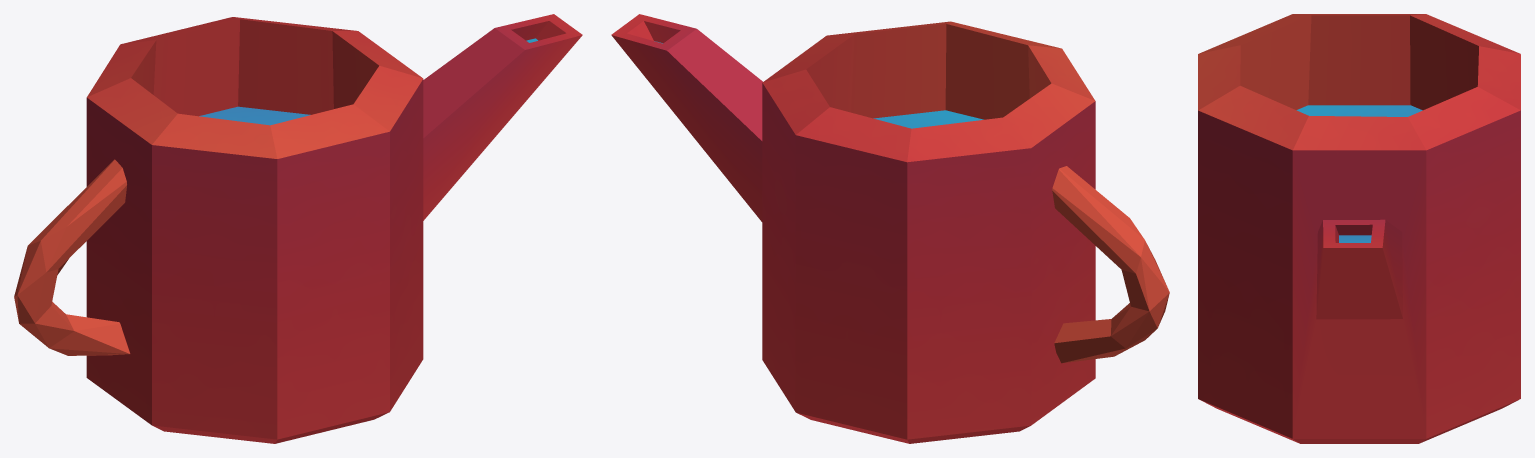
Rendered from Tool_WateringCan.fbx.
3 renders of one model, left to right at view 1: azimuth 30°, elevation 25°; view 2: azimuth 150°, elevation 25°; view 3: azimuth 270°, elevation 25°, orthographic. The views are drawn at different scales.
Visible parts, largest first — view 1: WateringCan; view 2: WateringCan; view 3: WateringCan.
Part boxes in pixels (x1,y1,x2,y2): WateringCan: (14, 14, 582, 443); WateringCan: (611, 14, 1169, 443); WateringCan: (1198, 14, 1520, 443).
Bounding box in the file's own units: 38.7 × 20.77 × 19.1.
